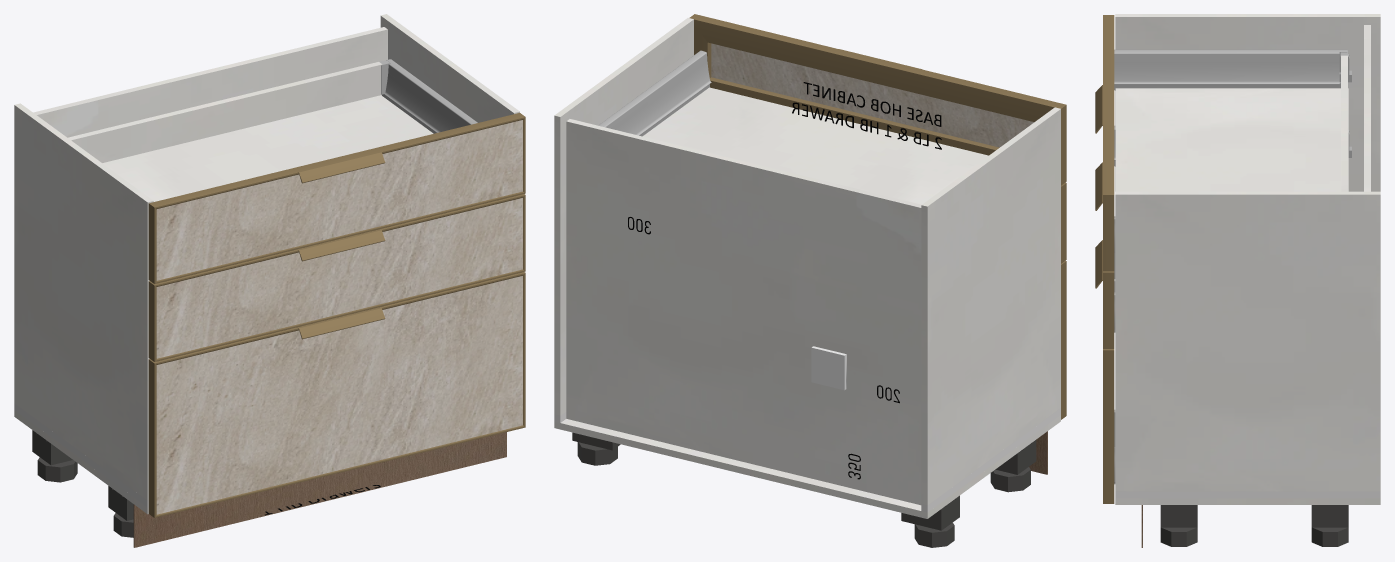
The model's file is BC-HO-TTS-ST-2LB-1HB-XXX-900-720-560-15.glb.
The picture shows the model from 3 angles, left to right: view 1: azimuth 30°, elevation 25°; view 2: azimuth 150°, elevation 25°; view 3: azimuth 270°, elevation 25°; orthographic projection.
Parts seen in each view (by area): view 1: Object_node, TP_node_6, Object_node_1, Object_node_3, TP_node_3, TP, TP_node_4, Object_node_94, TP_node_7, Shell_0_0_node_0, ExtrSplGeo_node_0, Extrusion_node_4 (+15 smaller); view 2: TP, TP_node_6, TP_node_3, Object_node_3, TP_node_7, TP_node_5, Shell_0_0_node_0, Extrusion_node_14, Extrusion_node_15, Extrusion_node_17, ExtrSplGeo_node_0, 2D text (+8 smaller); view 3: TP_node_7, TP_node_3, TP_node_6, Shell_1_0_node_0, Object_node_76, TP_node_5, Extrusion_node_2, TP, TP_node_4, Extrusion_node_9, Extrusion_node_16, Plate_node (+6 smaller).
Boxes of the visible parts, left/top/right/bottom form: Object_node: left=156, top=276, right=522, bottom=514; TP_node_6: left=14, top=103, right=153, bottom=500; Object_node_1: left=156, top=198, right=522, bottom=358; Object_node_3: left=156, top=120, right=522, bottom=280; TP_node_3: left=102, top=95, right=433, bottom=201; TP: left=33, top=27, right=387, bottom=162; TP_node_4: left=68, top=62, right=382, bottom=162; Object_node_94: left=133, top=432, right=506, bottom=547; TP_node_7: left=380, top=14, right=519, bottom=122; Shell_0_0_node_0: left=382, top=59, right=477, bottom=133; ExtrSplGeo_node_0: left=293, top=148, right=385, bottom=183; Extrusion_node_4: left=148, top=359, right=156, bottom=517; TP: left=566, top=119, right=921, bottom=505; TP_node_6: left=921, top=107, right=1060, bottom=505; TP_node_3: left=642, top=87, right=988, bottom=204; Object_node_3: left=711, top=43, right=1034, bottom=147; TP_node_7: left=554, top=18, right=693, bottom=415; TP_node_5: left=554, top=415, right=1060, bottom=518; Shell_0_0_node_0: left=598, top=50, right=711, bottom=136; Extrusion_node_14: left=689, top=14, right=838, bottom=72; Extrusion_node_15: left=916, top=69, right=1066, bottom=121; Extrusion_node_17: left=710, top=77, right=999, bottom=155; ExtrSplGeo_node_0: left=833, top=49, right=922, bottom=93; 2D text: left=792, top=82, right=941, bottom=149; TP_node_7: left=1115, top=191, right=1380, bottom=491; TP_node_3: left=1115, top=88, right=1348, bottom=191; TP_node_6: left=1115, top=14, right=1380, bottom=191; Shell_1_0_node_0: left=1114, top=49, right=1347, bottom=90; Object_node_76: left=1115, top=491, right=1380, bottom=498; TP_node_5: left=1115, top=498, right=1380, bottom=504; Extrusion_node_2: left=1103, top=350, right=1114, bottom=503; TP: left=1364, top=25, right=1370, bottom=191; TP_node_4: left=1341, top=55, right=1347, bottom=191; Extrusion_node_9: left=1103, top=272, right=1114, bottom=348; Extrusion_node_16: left=1103, top=195, right=1114, bottom=271; Plate_node: left=1311, top=505, right=1348, bottom=527.
Size of what is drawn, in the model's own units: 0.9 by 0.82 by 0.6.
Materials: 11 (3 with a texture image).
